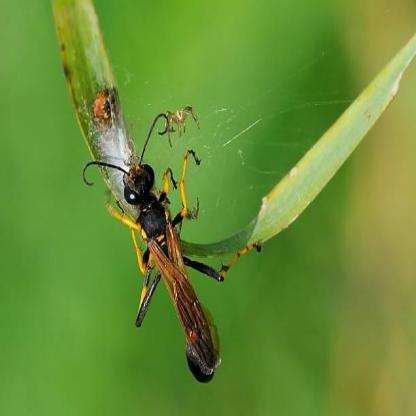sawfly: (86, 105, 265, 393)
